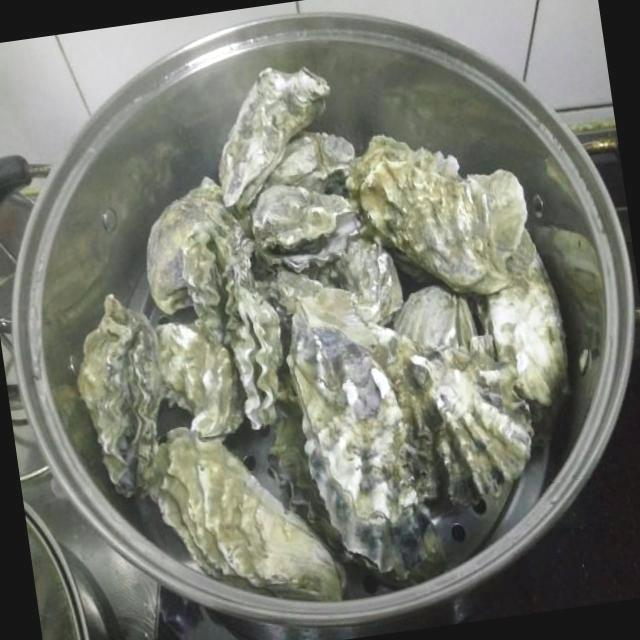Oyster-Closed: (286, 286, 456, 576), (152, 426, 348, 602), (352, 133, 536, 295), (406, 347, 534, 516), (77, 294, 161, 498), (475, 227, 569, 403), (220, 66, 332, 208), (153, 319, 241, 435), (271, 130, 357, 190)
Oyster-Open: (221, 282, 285, 432), (254, 184, 358, 270), (182, 220, 240, 346)
